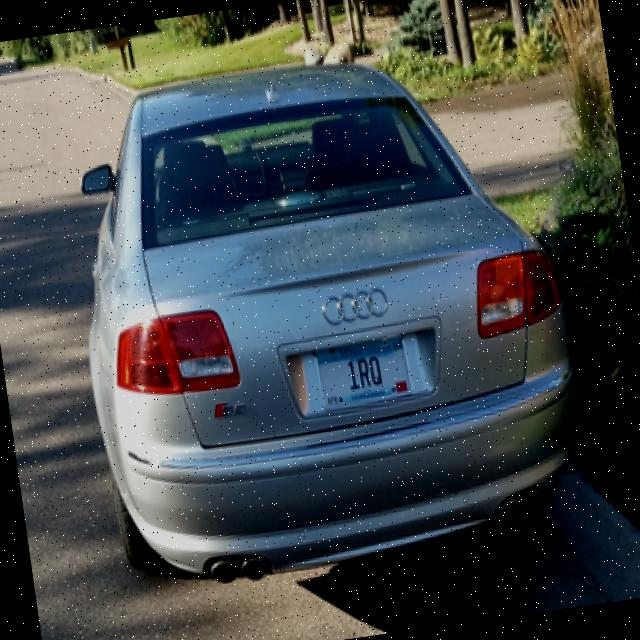Autre: (302, 328, 424, 416)
